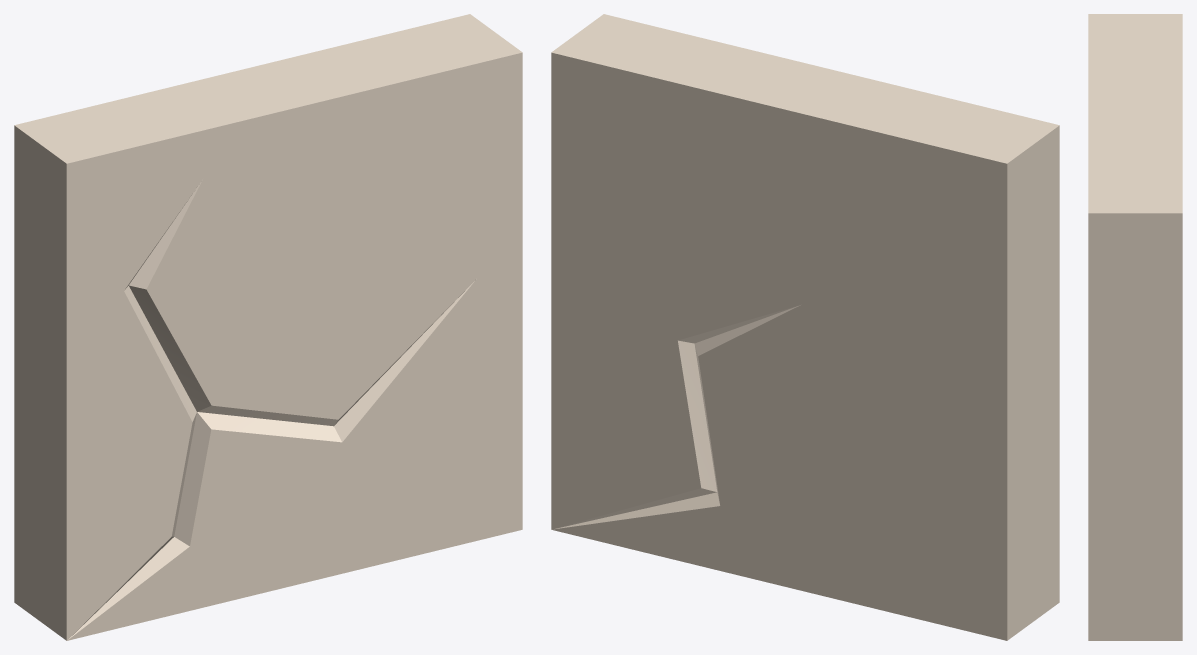
File: temple_Wall_Ruined_Full_Cracked_2.glb
3 views of the same model, side by side, from view 1: azimuth 30°, elevation 25°; view 2: azimuth 150°, elevation 25°; view 3: azimuth 270°, elevation 25° (orthographic). The views are drawn at different scales.
Visible parts, largest first — view 1: object1; view 2: object1; view 3: object1.
Part boxes in pixels (left/top/right/bottom): object1: left=14, top=14, right=522, bottom=640; object1: left=551, top=14, right=1059, bottom=640; object1: left=1088, top=14, right=1182, bottom=640.
Bounding box in the file's own units: 1 × 1 × 0.2.
